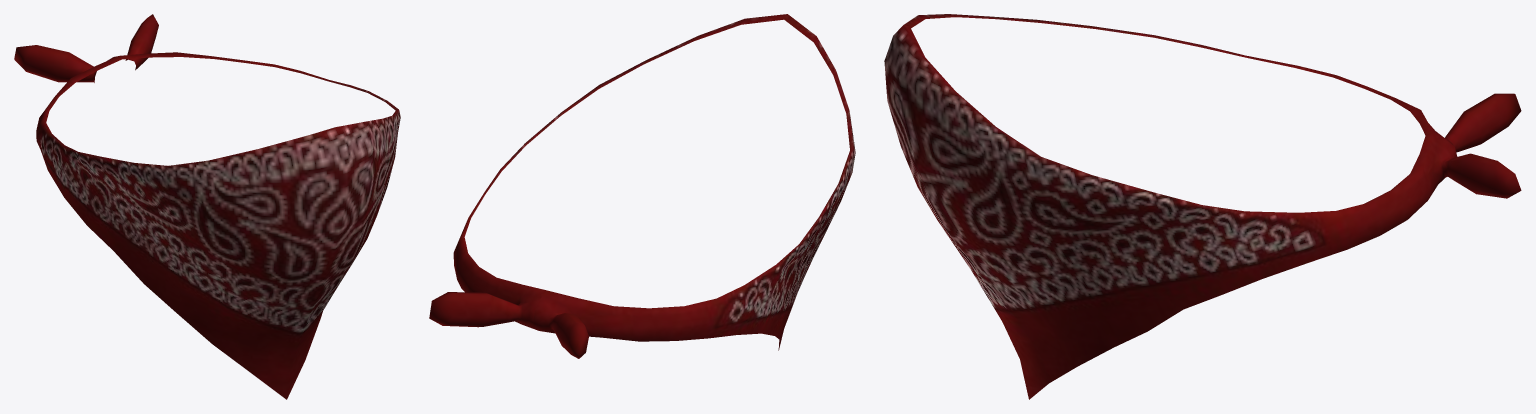
Rendered from outfit_bandana_mask.glb.
3 renders of one model, left to right at view 1: azimuth 30°, elevation 25°; view 2: azimuth 150°, elevation 25°; view 3: azimuth 270°, elevation 25°, orthographic. The views are drawn at different scales.
Visible parts, largest first — view 1: outfit_bandana_mask; view 2: outfit_bandana_mask; view 3: outfit_bandana_mask.
Boxes of the visible parts, x1=… form: outfit_bandana_mask: x1=14, y1=14, x2=400, y2=399; outfit_bandana_mask: x1=429, y1=14, x2=855, y2=358; outfit_bandana_mask: x1=884, y1=14, x2=1521, y2=399.
Size of the model in its own units: 0.2746 by 0.3 by 0.4621.
Materials: 1 (1 with a texture image).
